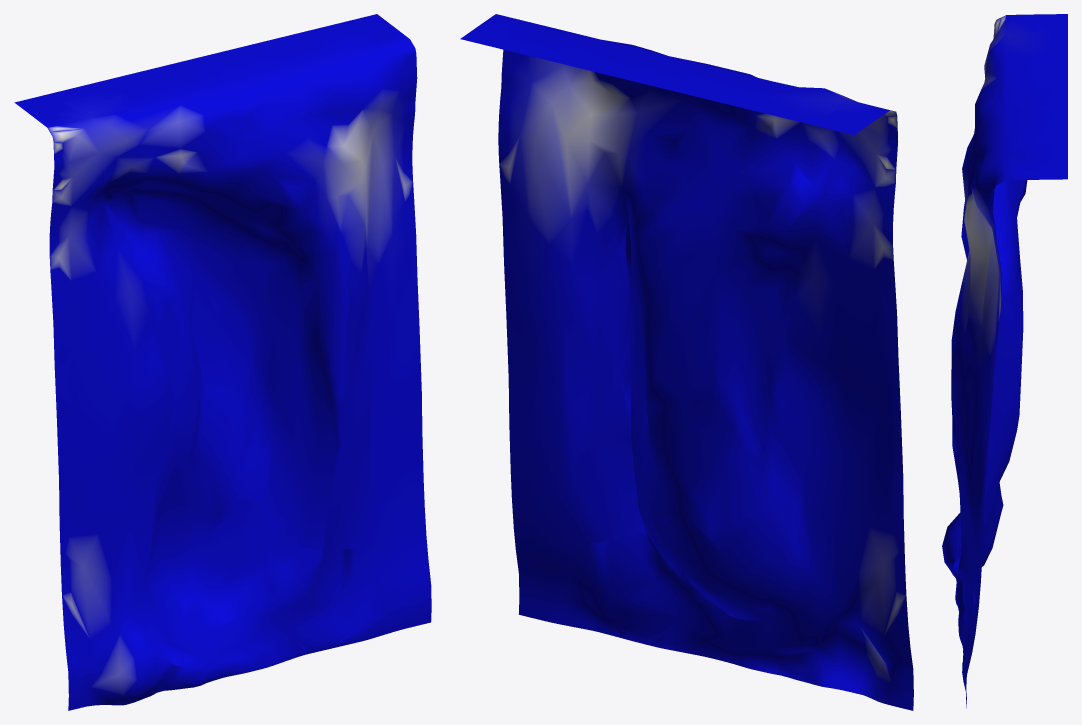
File: GeoTerrainCliffSide02.fbx
3 renders of one model, left to right at view 1: azimuth 30°, elevation 25°; view 2: azimuth 150°, elevation 25°; view 3: azimuth 270°, elevation 25°, orthographic. The views are drawn at different scales.
Visible parts, largest first — view 1: GeoTerrainCliffSide02_LOD0; view 2: GeoTerrainCliffSide02_LOD0; view 3: GeoTerrainCliffSide02_LOD0.
Boxes of the visible parts, x1,y1,x2,y2 form: GeoTerrainCliffSide02_LOD0: [14, 14, 431, 710]; GeoTerrainCliffSide02_LOD0: [460, 14, 913, 710]; GeoTerrainCliffSide02_LOD0: [942, 14, 1067, 708].
Size of what is drawn, in the model's own units: 1000 by 1505 by 322.
